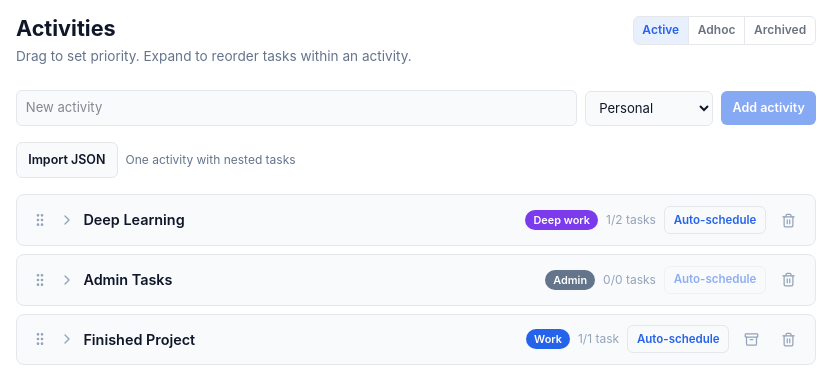
ActivitiesPage › shows adhoc blocks on their own tab and hides them from active
The width and height of the screenshot is (833, 382).
Expected: the text "Doctor appointment" is not shown
Click the button "Adhoc": (716, 30) top-left (688, 17), bottom-right (744, 44)
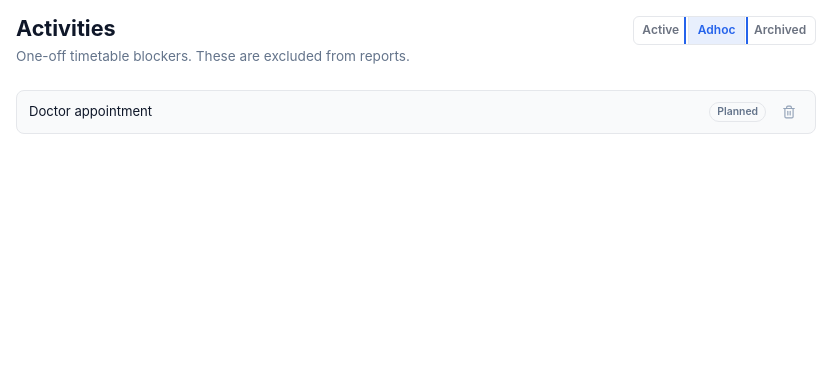
Expected: the button named "Delete task Doctor appointment" is enabled, top-left (774, 98), bottom-right (803, 126)
Expected: the button "Doctor appointment" is shown, top-left (29, 102), bottom-right (701, 122)
Expected: the button "Deep Learning" is gone
